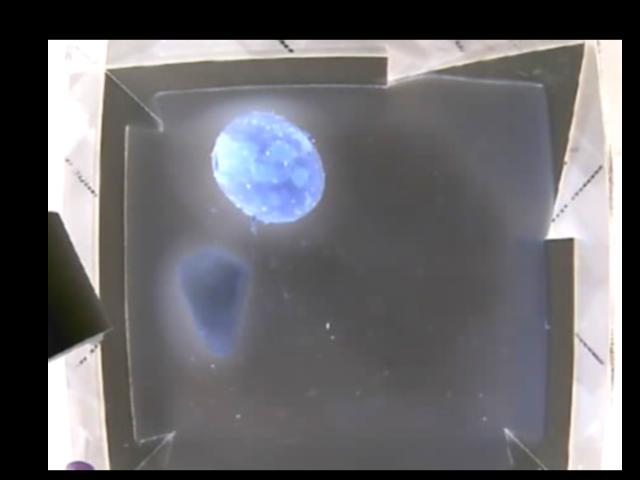Mooli: (178, 250, 252, 357)
Potato: (210, 113, 326, 224)
